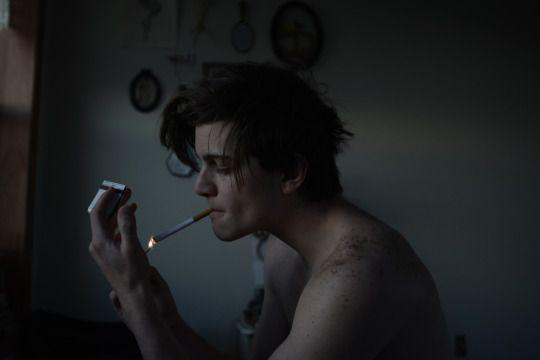cigarette: (151, 208, 213, 244)
